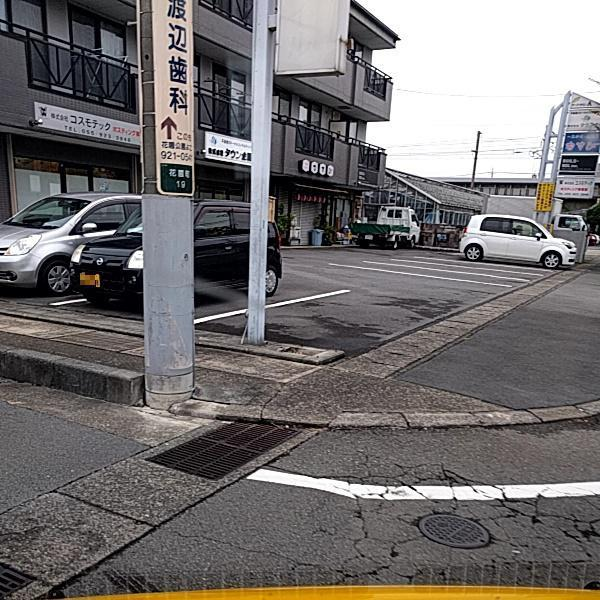D20: (189, 451, 594, 581)
D50: (418, 510, 492, 549)
